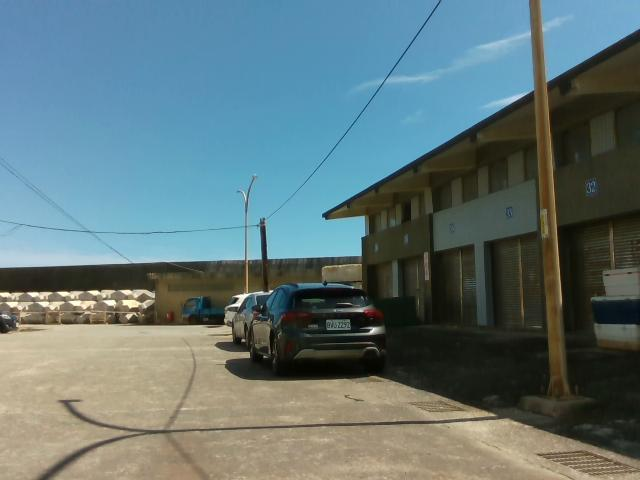pollute: (585, 265, 639, 353)
